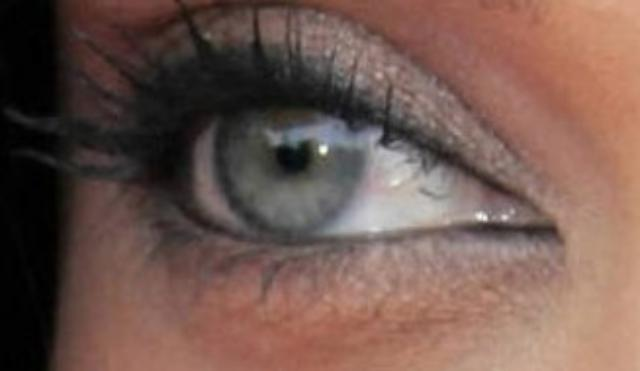eye: (212, 88, 368, 238)
